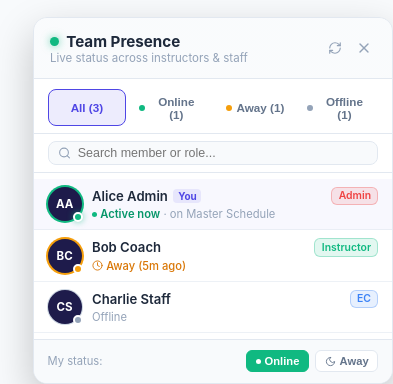
it: TeamPresenceDropdown › filters users by status tab when clicked
(page scrolled)
Note: Click Online filter tab
What coordinates should you click on to do the following:
click the button "Online (1)"
I would click on:
 (171, 108)
Its box is x1=132 y1=89 x2=210 y2=126.
(page scrolled)
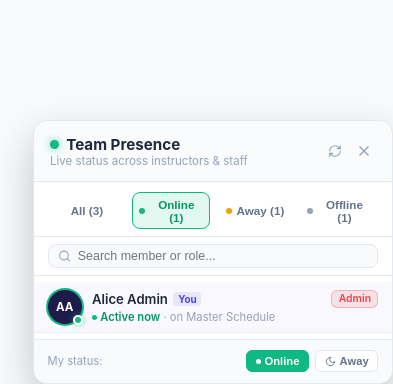
Check: the text "Alice Admin" is shown, box x1=92 y1=291 x2=168 y2=307
Check: the text "Bob Coach" is gone
Check: the text "Charlie Staff" is gone
Note: Click Away filter tab
What coordinates should you click on to do the following:
click the button "Away (1)"
I would click on:
 (255, 211)
Its box is x1=216 y1=192 x2=294 y2=229.
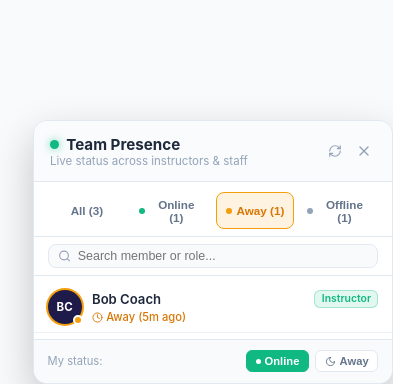
Check: the text "Charlie Staff" is not shown
Check: the text "Alice Admin" is gone
Check: the text "Bob Coach" is shown, box x1=92 y1=291 x2=161 y2=307
Note: Click Offline filter tab
What coordinates should you click on to do the following:
click the button "Offline (1)"
I would click on:
 (339, 211)
Its box is x1=300 y1=192 x2=378 y2=229.
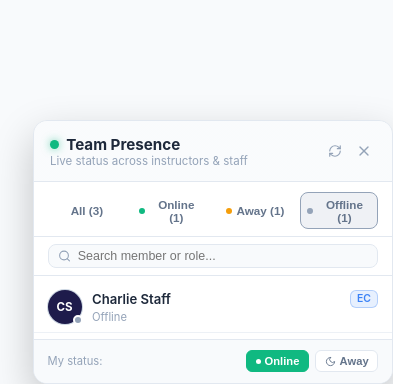
Check: the text "Alice Admin" is not shown
Check: the text "Bob Coach" is gone
Check: the text "Charlie Staff" is shown, box x1=92 y1=291 x2=171 y2=307
